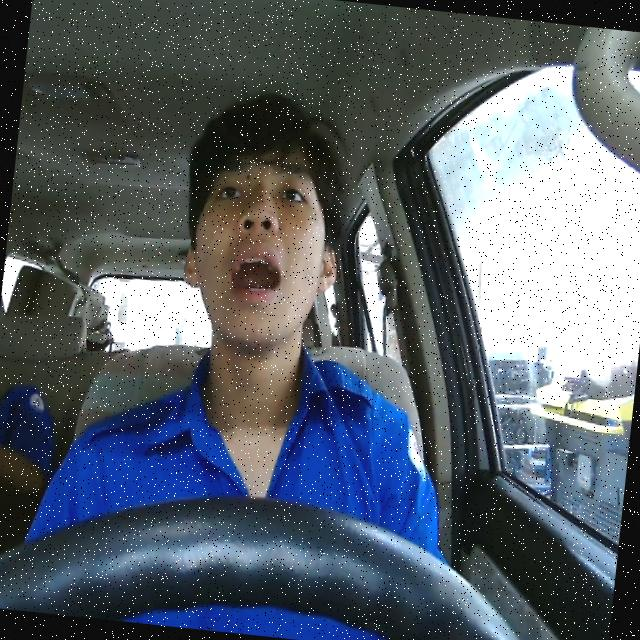yarning: (172, 134, 350, 354)
